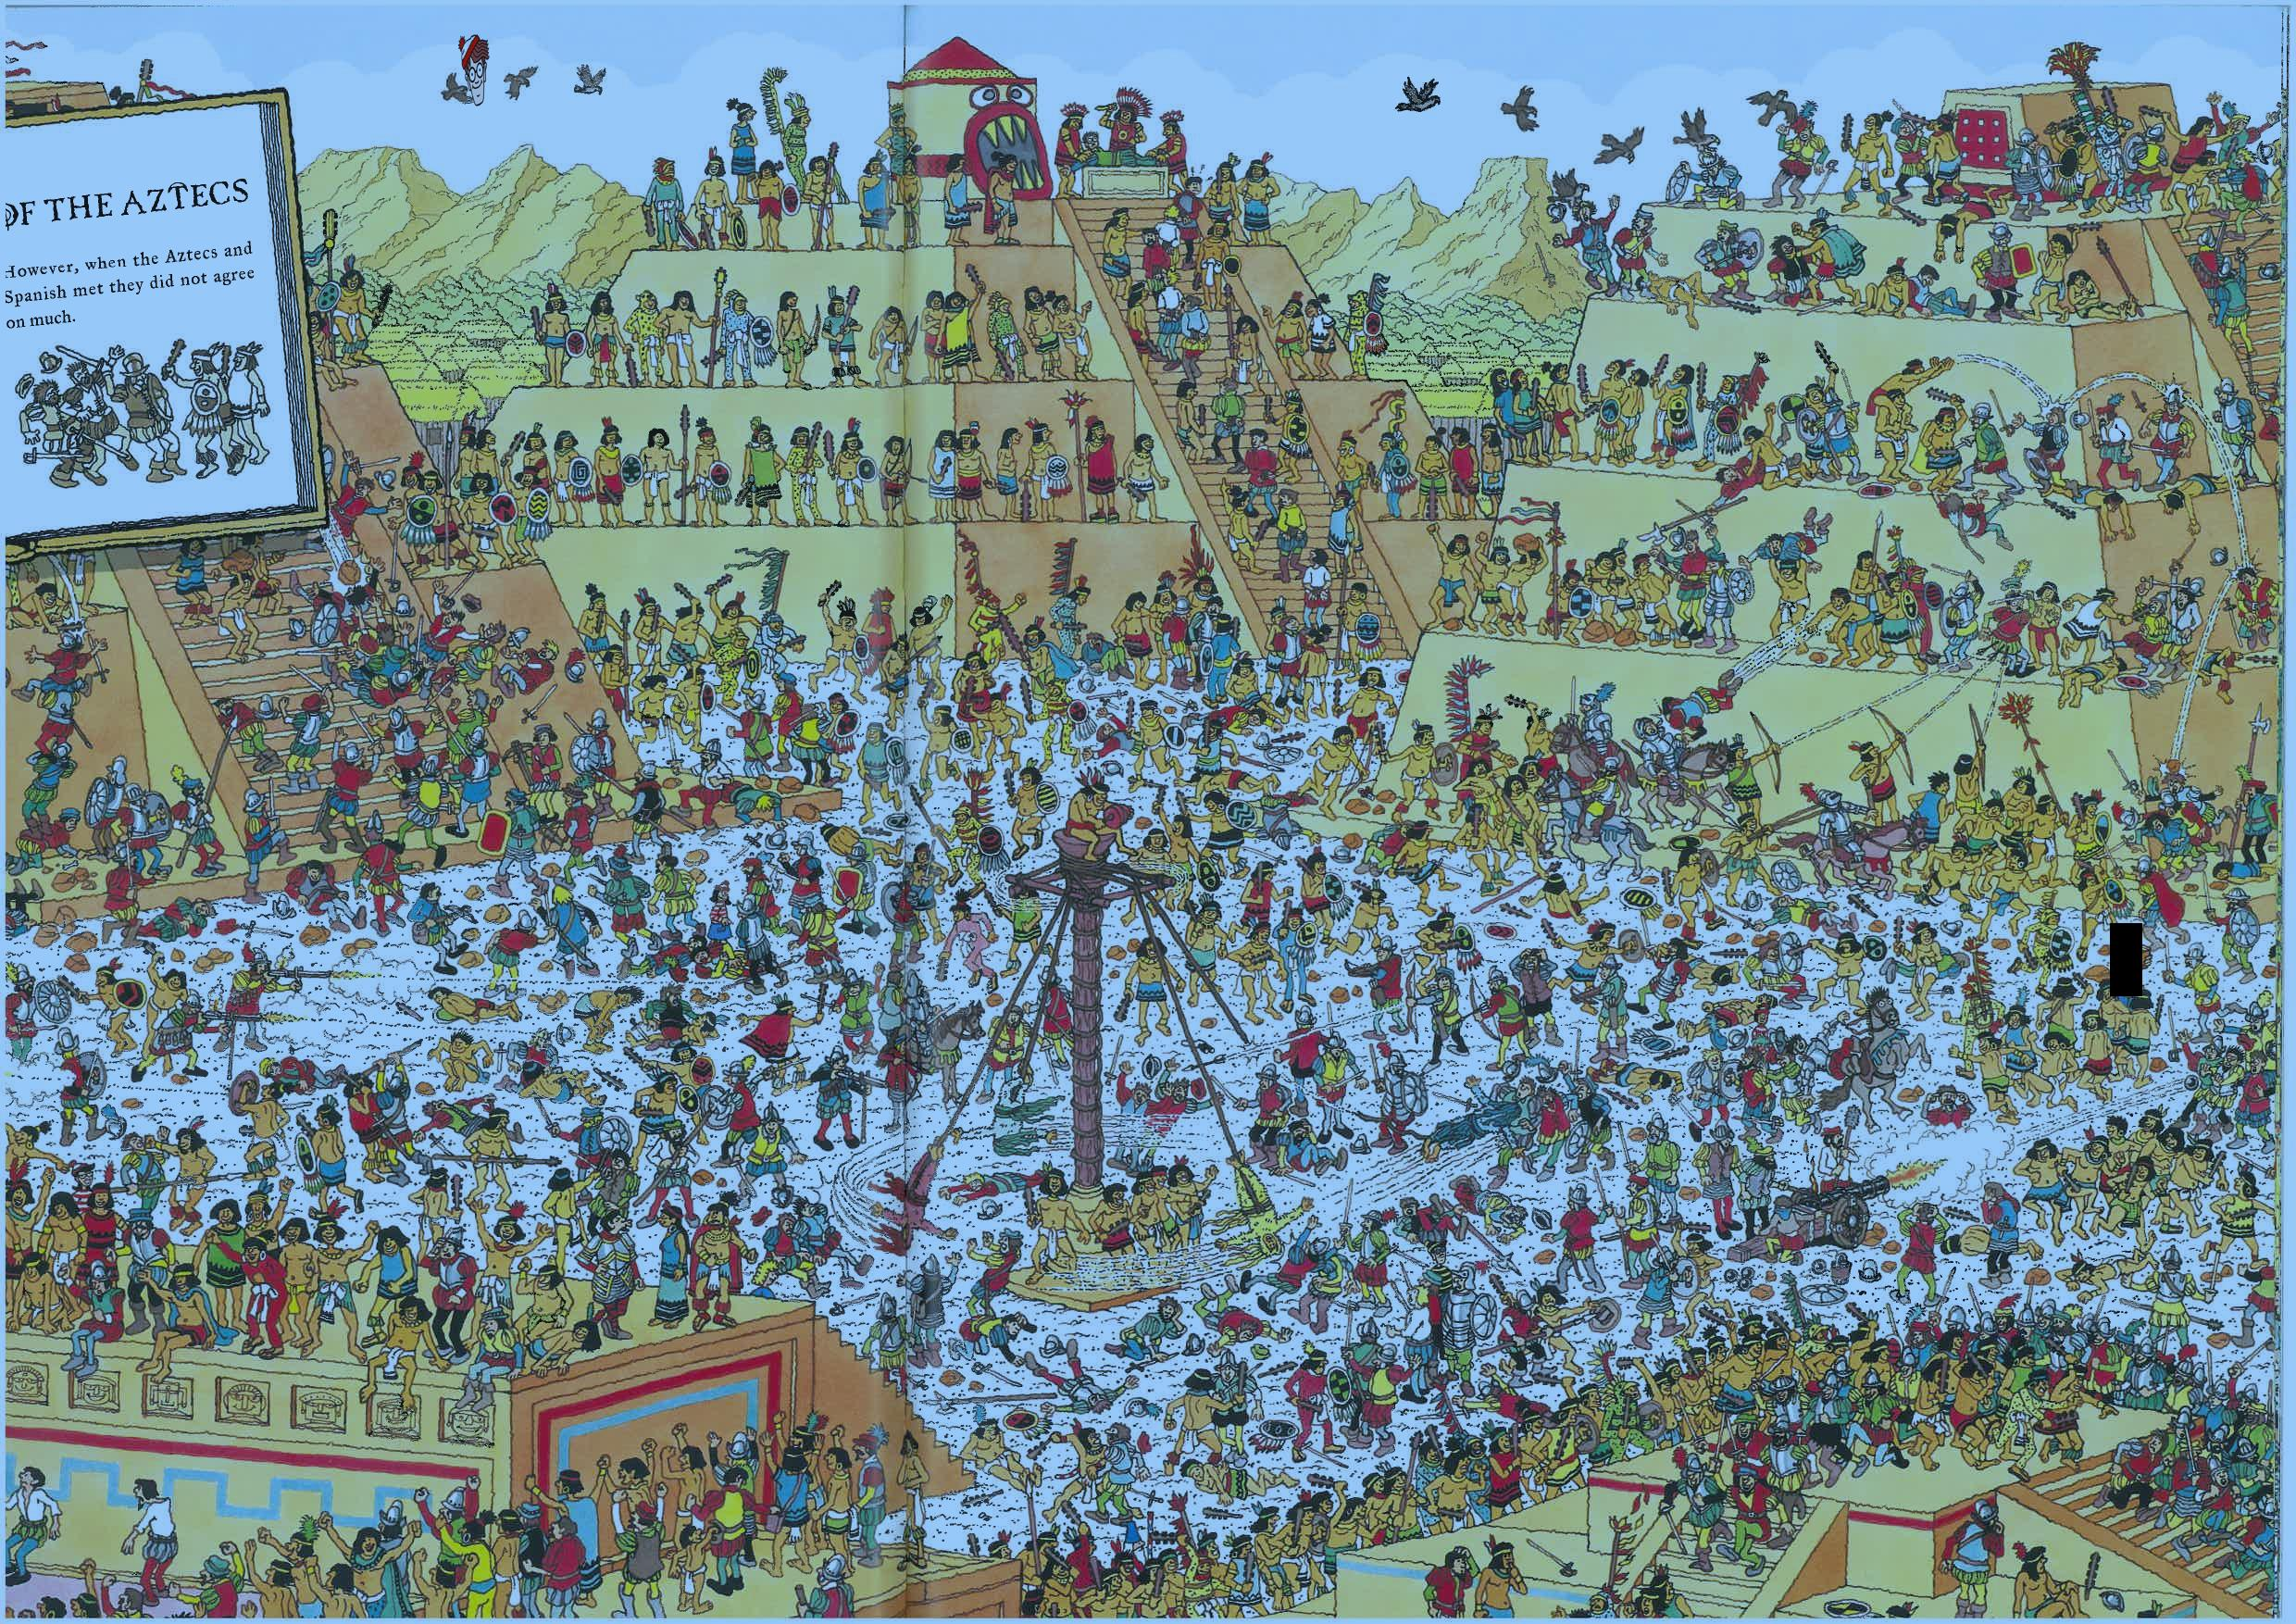waldos: (458, 33, 490, 107)
